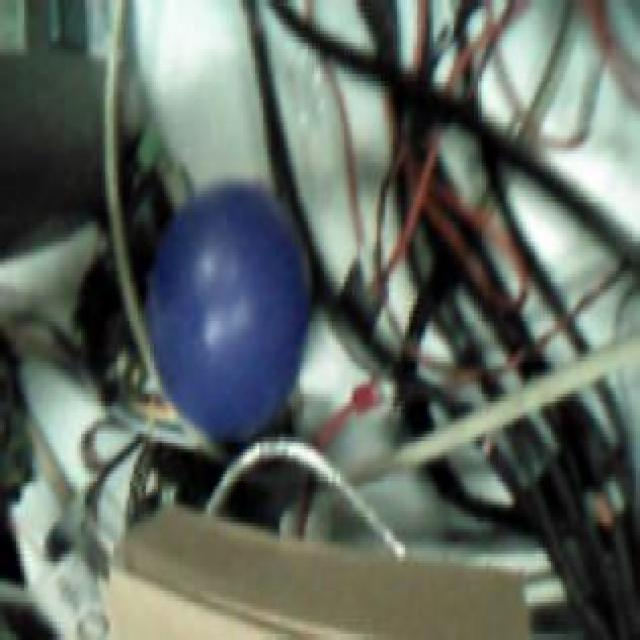BallPurple: (146, 183, 312, 445)
